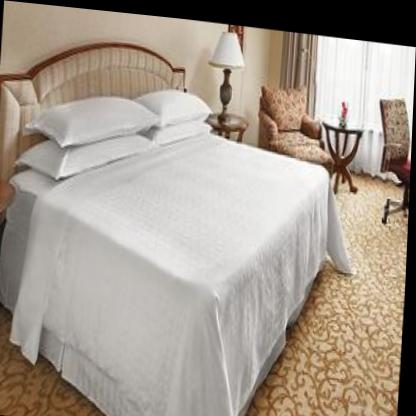Bed: (0, 25, 336, 416)
Carpet: (247, 257, 408, 416)
Chair: (257, 71, 329, 154)
Table: (319, 106, 364, 189)
